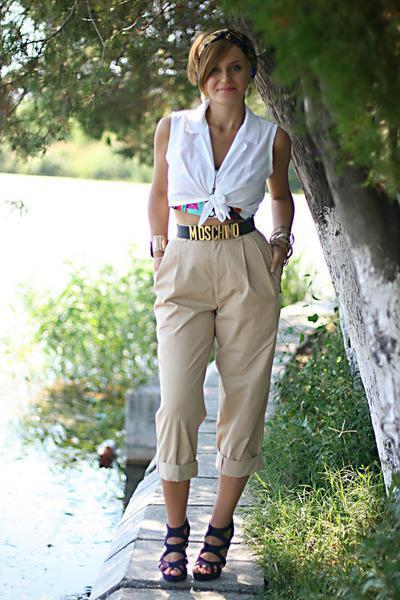pants: (145, 228, 292, 501)
shirt: (166, 92, 275, 239)
shoe: (163, 512, 239, 583)
